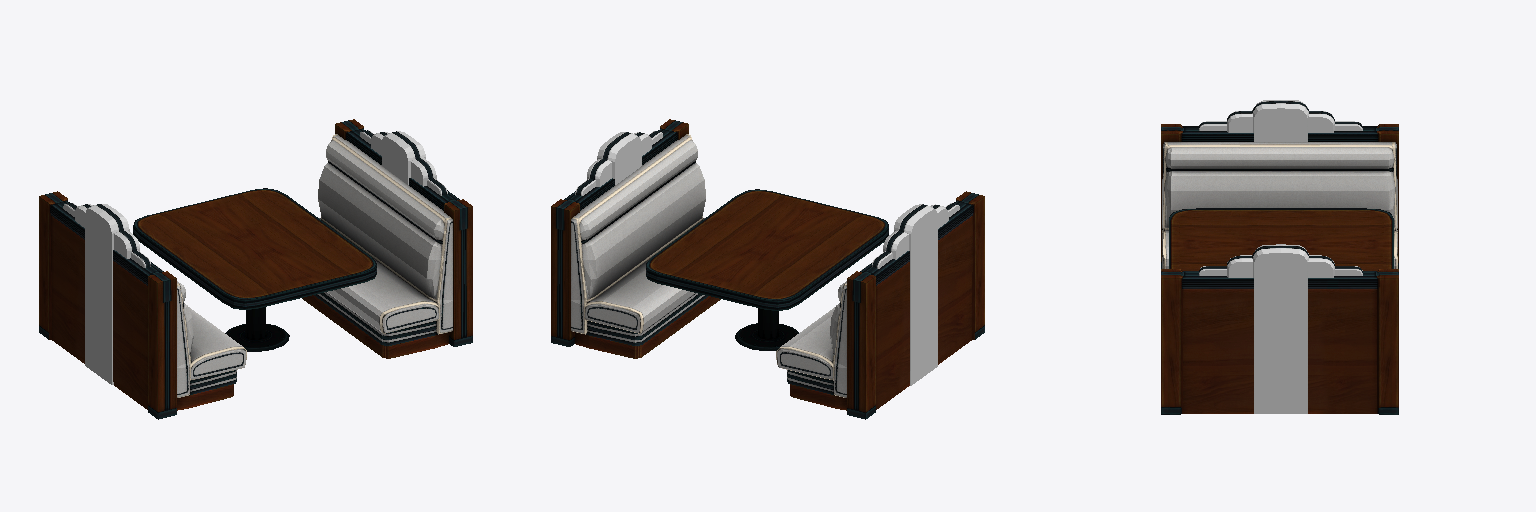
The picture shows the model from 3 angles: view 1: azimuth 30°, elevation 25°; view 2: azimuth 150°, elevation 25°; view 3: azimuth 270°, elevation 25°; orthographic projection.
Parts seen in each view (by area): view 1: Table_Booth_B; view 2: Table_Booth_B; view 3: Table_Booth_B.
Boxes of the visible parts, x1,y1,x2,y2 form: Table_Booth_B: [39, 119, 472, 419]; Table_Booth_B: [551, 119, 984, 419]; Table_Booth_B: [1161, 100, 1398, 414].
Bounding box in the file's own units: 511 × 253 × 335.
Materials: 1 (1 with a texture image).